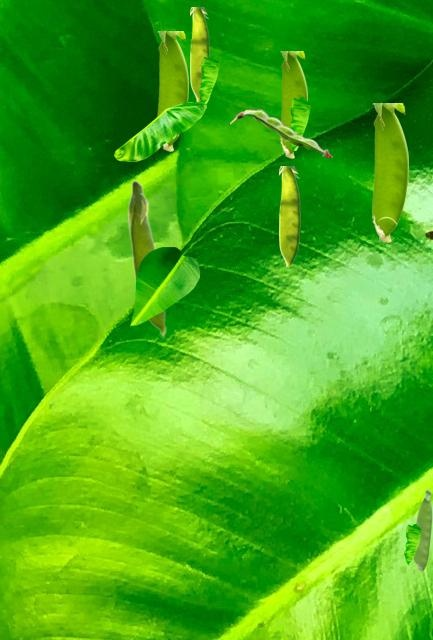pea: (127, 179, 166, 337), (372, 103, 407, 241), (230, 109, 331, 156), (157, 31, 187, 150), (280, 51, 306, 157), (279, 166, 299, 266), (190, 7, 208, 101), (414, 489, 431, 570)
